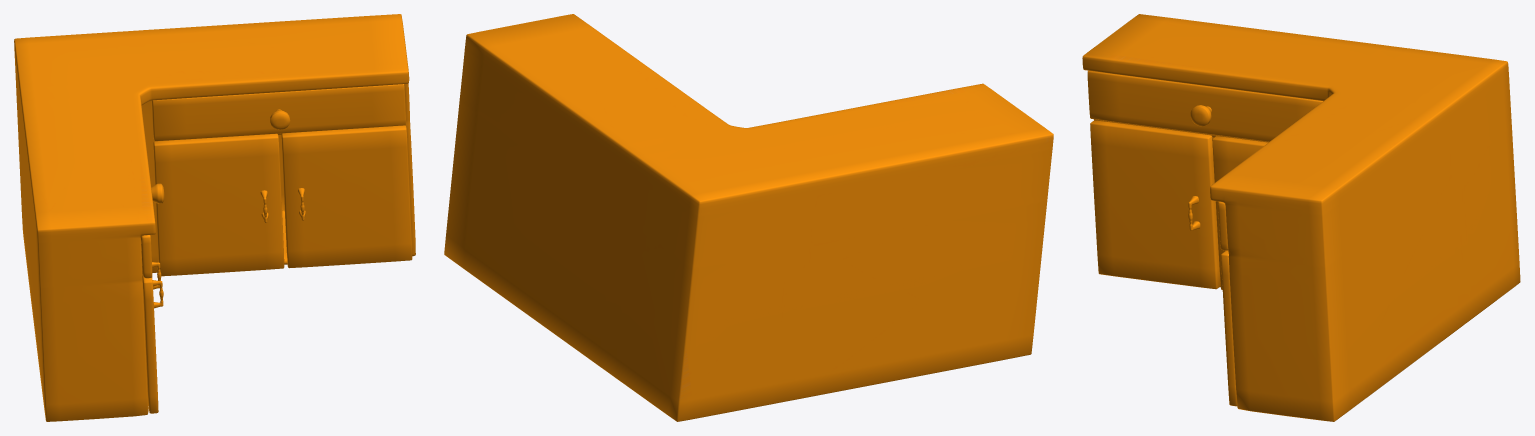
File: kitchen_wardrobe.fbx
3 views of the same model, side by side, from view 1: azimuth 30°, elevation 25°; view 2: azimuth 150°, elevation 25°; view 3: azimuth 270°, elevation 25° (orthographic). The views are drawn at different scales.
Parts seen in each view (by area): view 1: node_id4, node_id26, node_id18, node_id22, node_id14, node_id10; view 2: node_id4; view 3: node_id4, node_id14, node_id10, node_id6, node_id26.
Part boxes in pixels (x1,y1,x2,y2): node_id4: [14, 14, 415, 421]; node_id26: [281, 125, 412, 268]; node_id18: [153, 133, 284, 276]; node_id22: [152, 84, 405, 141]; node_id14: [142, 275, 158, 413]; node_id10: [141, 235, 152, 278]; node_id4: [444, 14, 1053, 421]; node_id4: [1082, 14, 1520, 421]; node_id14: [1090, 120, 1220, 289]; node_id10: [1087, 70, 1322, 141]; node_id6: [1212, 136, 1268, 289]; node_id26: [1221, 250, 1237, 406].
Bounding box in the file's own units: 0.3802 × 0.1915 × 0.2914.
13 materials, 13 textured.
